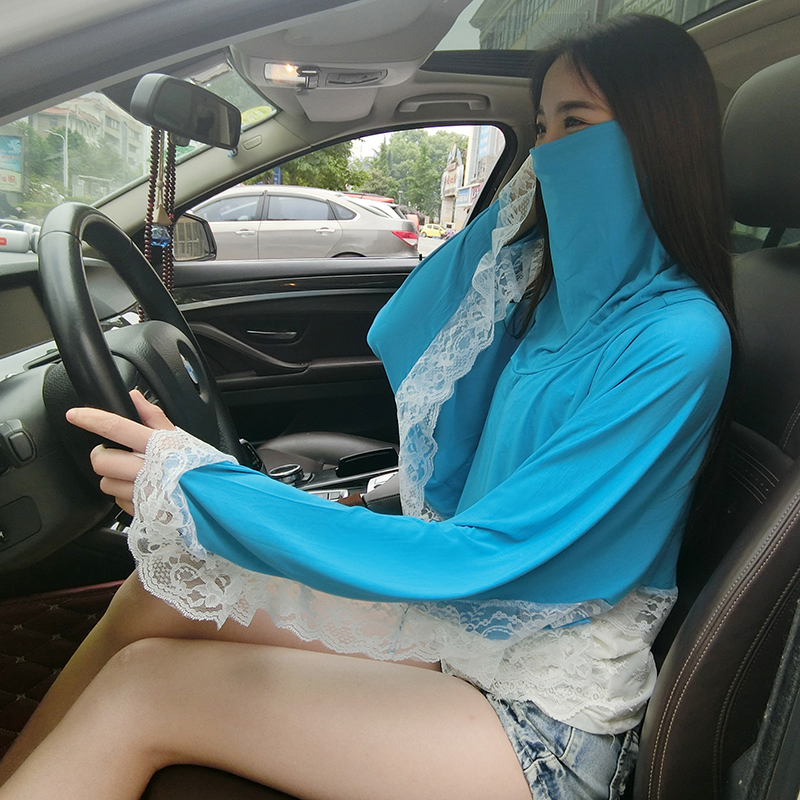face_mask: (530, 51, 660, 241)
